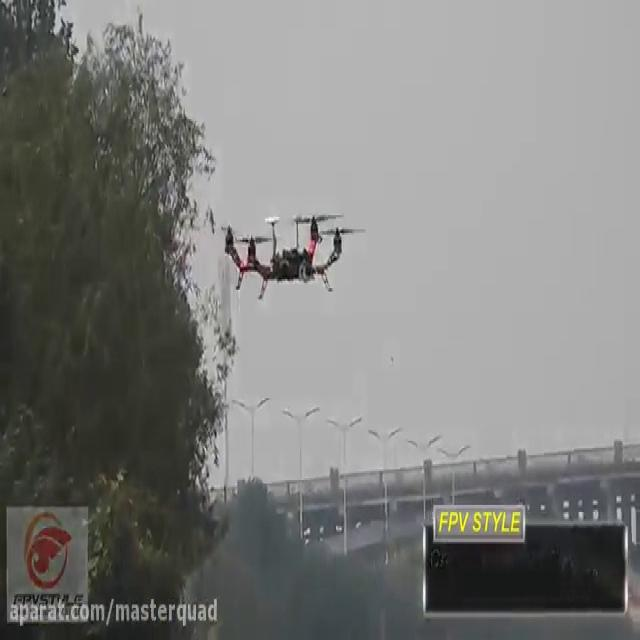drone: (215, 204, 367, 304)
